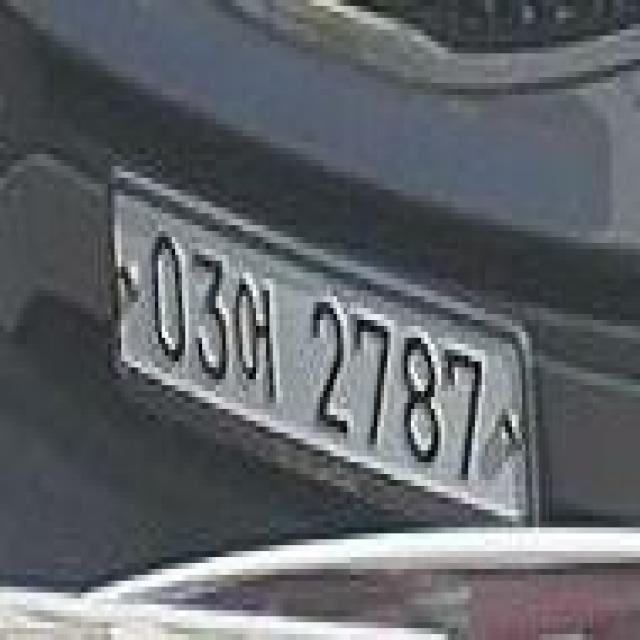illegal_plate: (105, 163, 537, 524)
